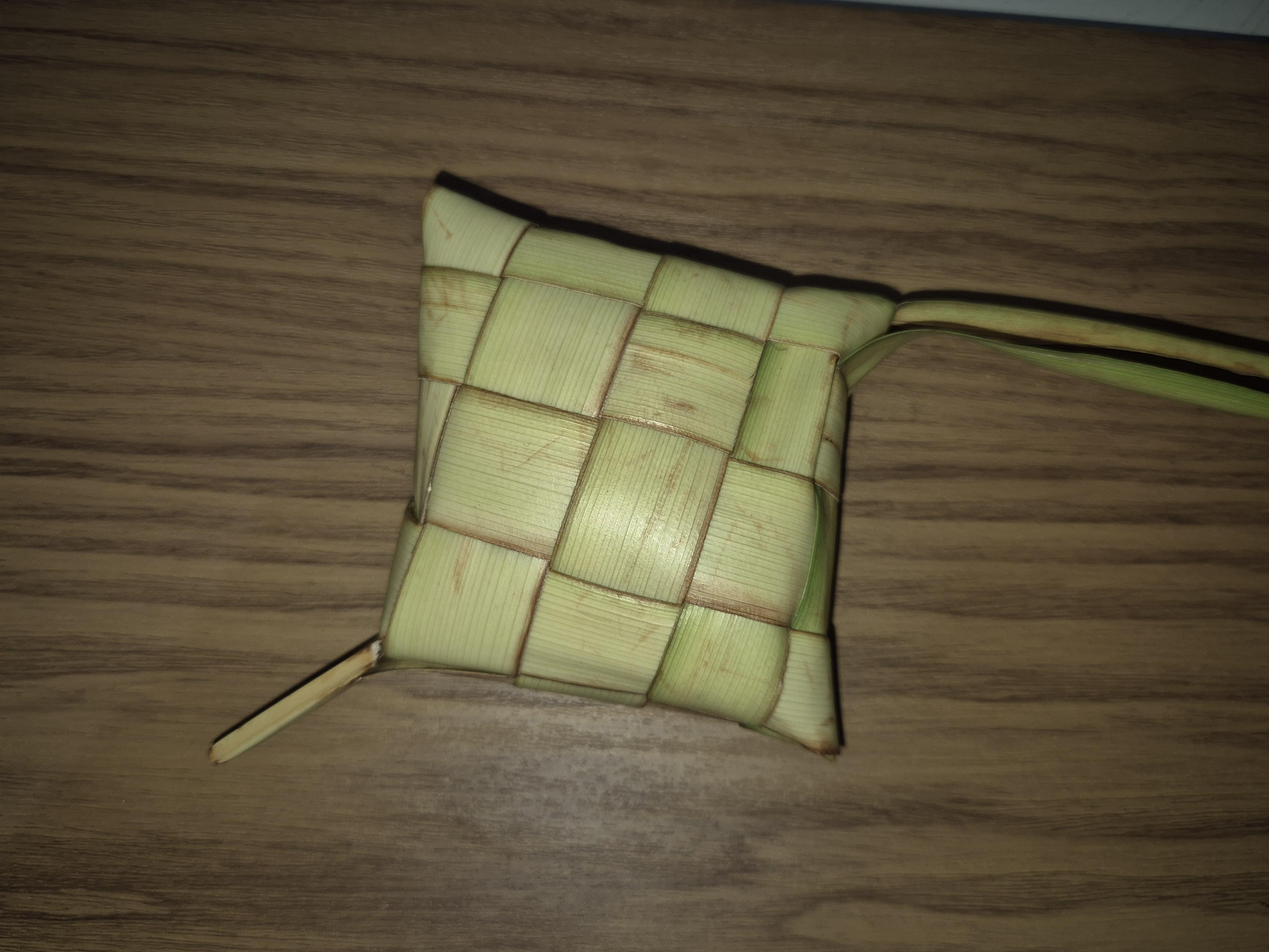Tipat Nasi: (263, 288, 1016, 670)
